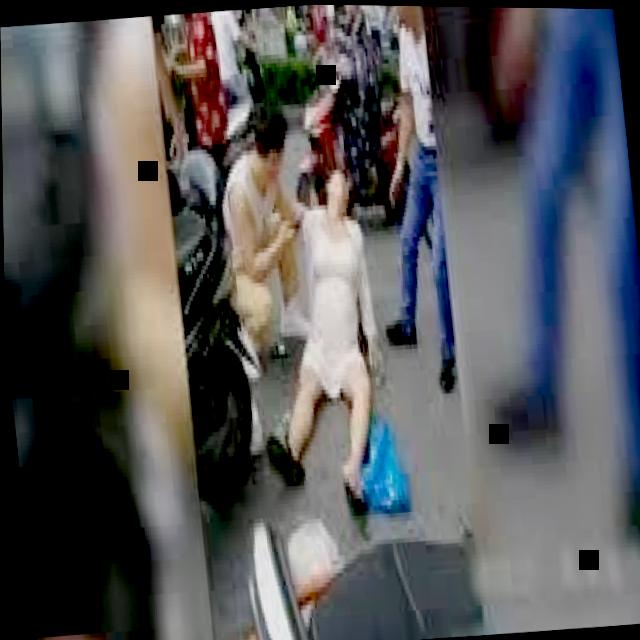Fall-Detected: (227, 142, 413, 523)
